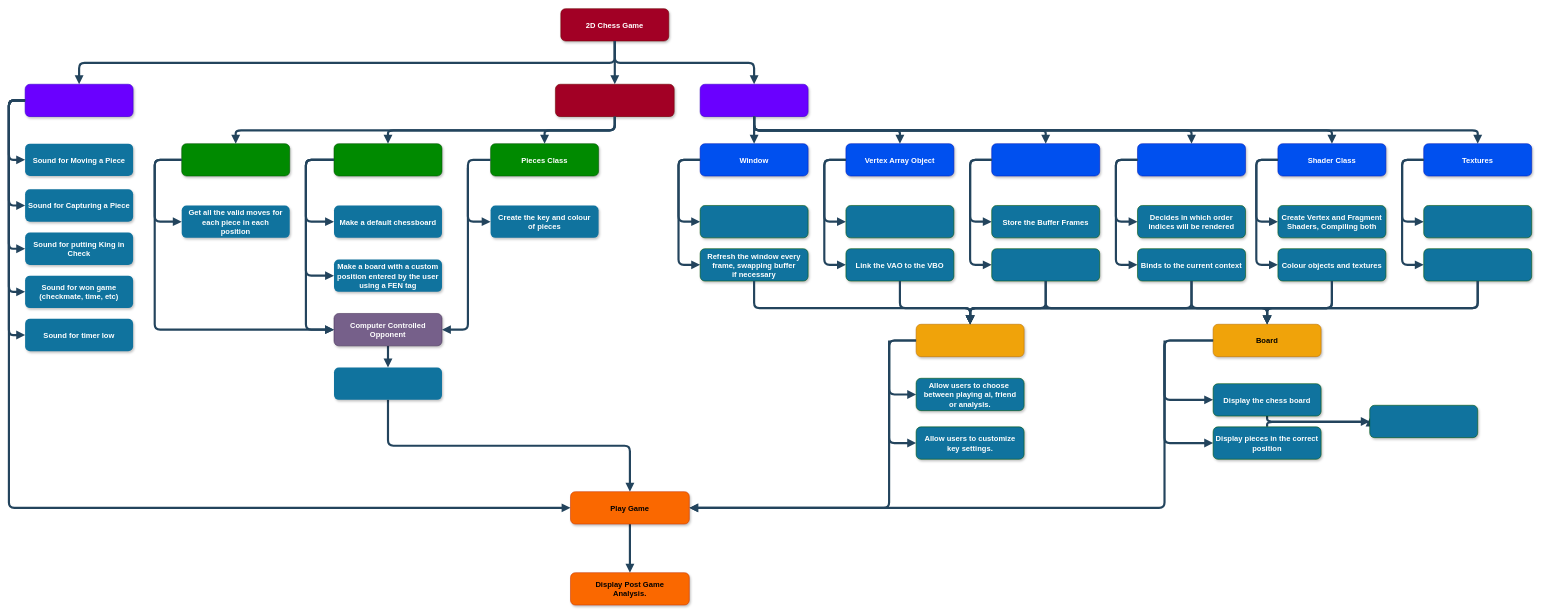
The diagram is 1541 pixels wide and 614 high, and some of its shapes have lost their labels. The shapes that lost their labels are listed below. From the top down, each one's centre as x and y in pixels, then its label:
pixel 79 101: Sounds
pixel 615 101: Main Game
pixel 754 101: Graphics Programming
pixel 236 160: Possible Moves
pixel 388 160: Board Setup
pixel 1046 160: Vertex Buffer Object
pixel 1192 160: Element Buffer Object
pixel 754 222: Create a window of a certain size
pixel 900 222: Store all the vertices that are being drawn
pixel 1478 222: Import and collect all the texture data
pixel 1046 265: Link to the VAO
pixel 1478 265: Map texture onto an object
pixel 970 341: Menu
pixel 388 384: Evaluate all positions up to a certain depth
pixel 1424 422: Allow users to change the textures.
